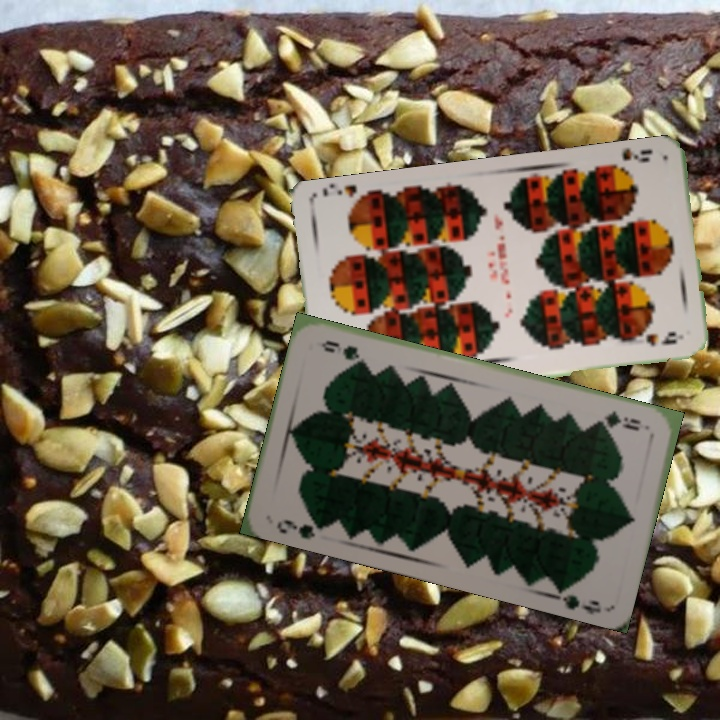G9: (273, 515, 328, 542), (593, 406, 643, 434)
S9: (603, 145, 655, 173)
